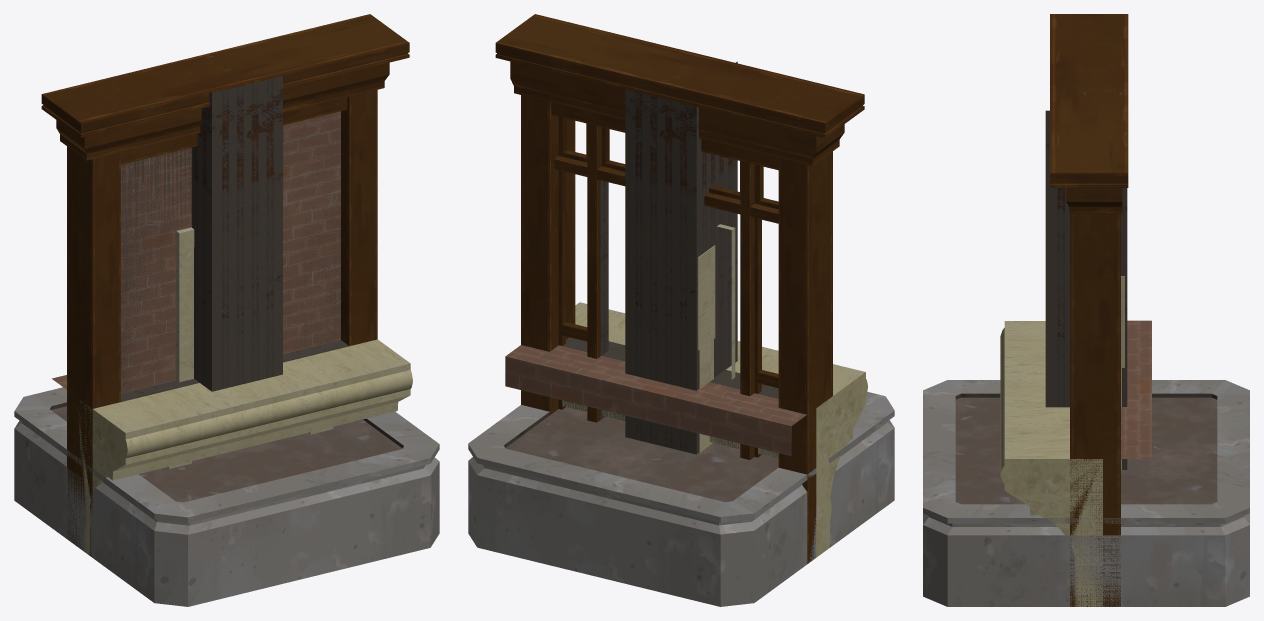
Rendered from city-kit.glb.
3 renders of one model, left to right at view 1: azimuth 30°, elevation 25°; view 2: azimuth 150°, elevation 25°; view 3: azimuth 270°, elevation 25°, orthographic.
Parts seen in each view (by area): view 1: Prop_Planter_Single, DoorFrame_Wooden, Brick_Plain_3_noWear, Metal_Column_Center, Cornice_Trim_Center, Metal_FirstFloor_Wall, Brick_Window_Square_Single, Cornice_Metal_Center; view 2: DoorFrame_Wooden, Prop_Planter_Single, Metal_Column_Center, Cornice_Brick_Center, Cornice_Trim_Center, Brick_Window_Square_Single, DoorFrame_Metal_Single, Cornice_Metal_Center; view 3: Prop_Planter_Single, DoorFrame_Wooden, Cornice_Trim_Center, Metal_Column_Center, Cornice_Brick_Center.
Part boxes in pixels (<box>): Prop_Planter_Single: <box>14,387,439,606</box>; DoorFrame_Wooden: <box>41,14,409,555</box>; Brick_Plain_3_noWear: <box>121,111,340,393</box>; Metal_Column_Center: <box>191,76,282,391</box>; Cornice_Trim_Center: <box>77,339,412,555</box>; Metal_FirstFloor_Wall: <box>121,121,340,393</box>; Brick_Window_Square_Single: <box>121,166,340,393</box>; Cornice_Metal_Center: <box>102,339,376,406</box>; DoorFrame_Wooden: <box>495,14,864,563</box>; Prop_Planter_Single: <box>468,392,894,606</box>; Metal_Column_Center: <box>625,61,737,454</box>; Cornice_Brick_Center: <box>505,345,806,455</box>; Cornice_Trim_Center: <box>562,302,867,557</box>; Brick_Window_Square_Single: <box>697,224,735,452</box>; DoorFrame_Metal_Single: <box>600,180,608,420</box>; Cornice_Metal_Center: <box>562,337,778,457</box>; Prop_Planter_Single: <box>923,380,1249,606</box>; DoorFrame_Wooden: <box>1050,14,1128,606</box>; Cornice_Trim_Center: <box>1000,321,1102,606</box>; Metal_Column_Center: <box>1045,110,1127,469</box>; Cornice_Brick_Center: <box>1121,320,1151,458</box>.
Bounding box in the file's own units: 2.3 × 3 × 2.
7 materials, 6 textured.
